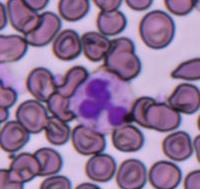N: (74, 71, 133, 133)
